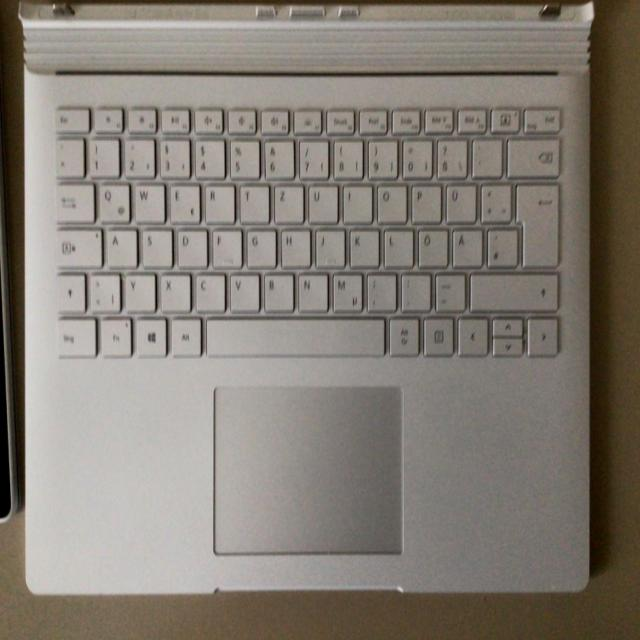0: (399, 135, 431, 177)
1: (85, 135, 118, 176)
2: (121, 135, 154, 176)
3: (156, 135, 188, 176)
4: (192, 136, 224, 176)
5: (228, 136, 259, 176)
6: (262, 136, 293, 176)
7: (296, 136, 327, 177)
8: (331, 136, 362, 177)
9: (365, 135, 397, 177)
a: (104, 225, 135, 266)
accent: (469, 134, 500, 176)
ae: (449, 225, 481, 266)
alt-left: (169, 314, 202, 356)
altgr-right: (387, 314, 419, 356)
b: (262, 270, 294, 311)
c: (192, 269, 225, 310)
caret: (53, 136, 83, 176)
comma: (364, 269, 395, 310)
d: (175, 225, 206, 267)
del: (506, 134, 560, 176)
e: (170, 183, 202, 225)
enter: (513, 180, 559, 267)
f: (210, 226, 241, 267)
g: (244, 226, 275, 266)
h: (278, 226, 309, 266)
hash: (484, 225, 516, 266)
i: (340, 180, 371, 221)
j: (313, 225, 343, 266)
k: (347, 225, 378, 266)
keyboard: (47, 92, 569, 371)
l: (381, 225, 412, 266)
less: (86, 269, 119, 310)
m: (329, 268, 360, 310)
minus: (433, 269, 465, 310)
n: (295, 268, 326, 310)
o: (373, 180, 405, 222)
oe: (415, 226, 446, 266)
p: (409, 180, 440, 222)
plus: (478, 180, 510, 221)
point: (399, 269, 430, 309)
q: (98, 183, 132, 225)
r: (202, 180, 234, 222)
s: (139, 226, 171, 266)
shift-left: (54, 271, 84, 310)
shift-lock: (53, 226, 100, 267)
shift-right: (468, 269, 558, 310)
space: (205, 314, 384, 357)
ss: (433, 135, 466, 177)
strg-left: (53, 315, 95, 356)
t: (237, 180, 268, 221)
tab: (53, 179, 95, 226)
u: (305, 180, 336, 222)
ue: (443, 180, 475, 222)
v: (228, 269, 260, 310)
w: (134, 180, 166, 223)
x: (160, 271, 193, 312)
y: (121, 269, 154, 310)
z: (271, 180, 302, 222)
